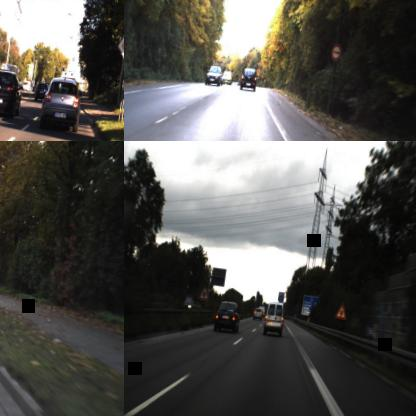SNOW: (334, 300, 349, 320), (198, 282, 212, 301)
no overtaking (trucks): (330, 42, 341, 61)
priority road: (115, 27, 124, 61)
